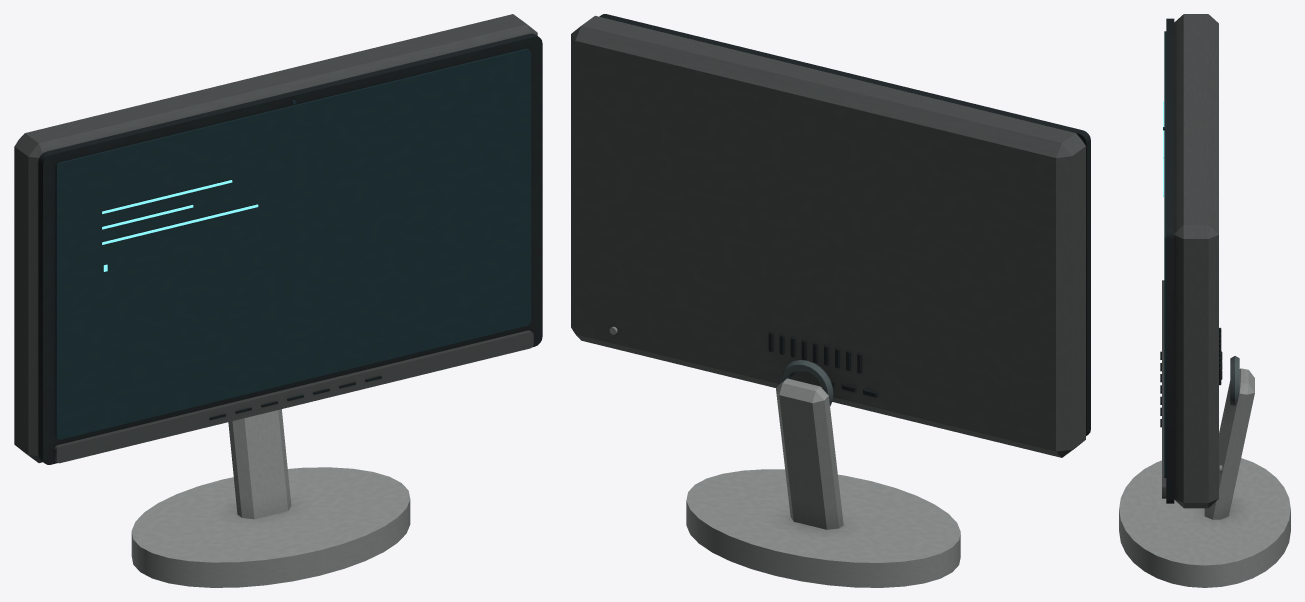
Rendered from monoblock_pc.glb.
The picture shows the model from 3 angles, left to right: view 1: azimuth 30°, elevation 25°; view 2: azimuth 150°, elevation 25°; view 3: azimuth 270°, elevation 25°; orthographic projection. The views are drawn at different scales.
Parts seen in each view (by area): view 1: monoblock_pc; view 2: monoblock_pc; view 3: monoblock_pc.
Boxes of the visible parts, x1,y1,x2,y2 form: monoblock_pc: (14, 14, 542, 587); monoblock_pc: (571, 14, 1090, 587); monoblock_pc: (1119, 14, 1290, 587).
Size of the model in its own units: 0.588 by 0.5135 by 0.194.
2 materials, 1 textured.
